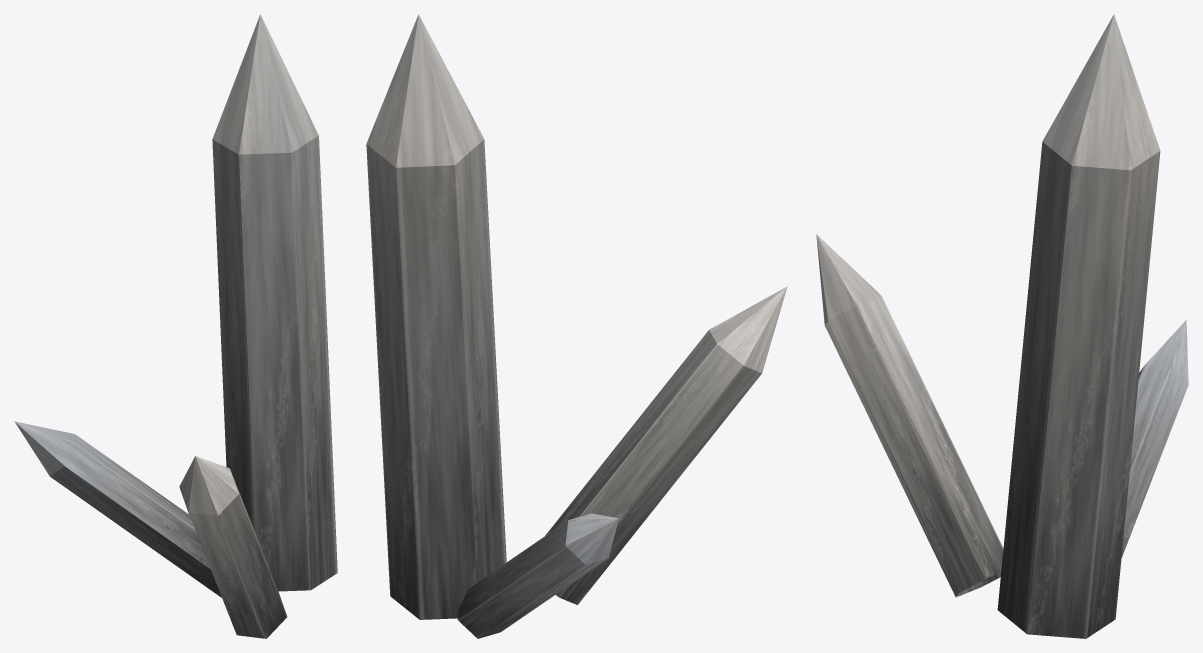
File: crystal_big_l2.gltf
3 views of the same model, side by side, from view 1: azimuth 30°, elevation 25°; view 2: azimuth 150°, elevation 25°; view 3: azimuth 270°, elevation 25° (orthographic). The views are drawn at different scales.
Visible parts, largest first — view 1: crystal_big_l2; view 2: crystal_big_l2; view 3: crystal_big_l2.
Part boxes in pixels (box(x1,y1,x2,y2)): crystal_big_l2: box(14, 14, 337, 638); crystal_big_l2: box(366, 14, 787, 638); crystal_big_l2: box(816, 14, 1188, 638).
Bounding box in the file's own units: 2.19 × 4.61 × 2.51.
1 material, 1 textured.
